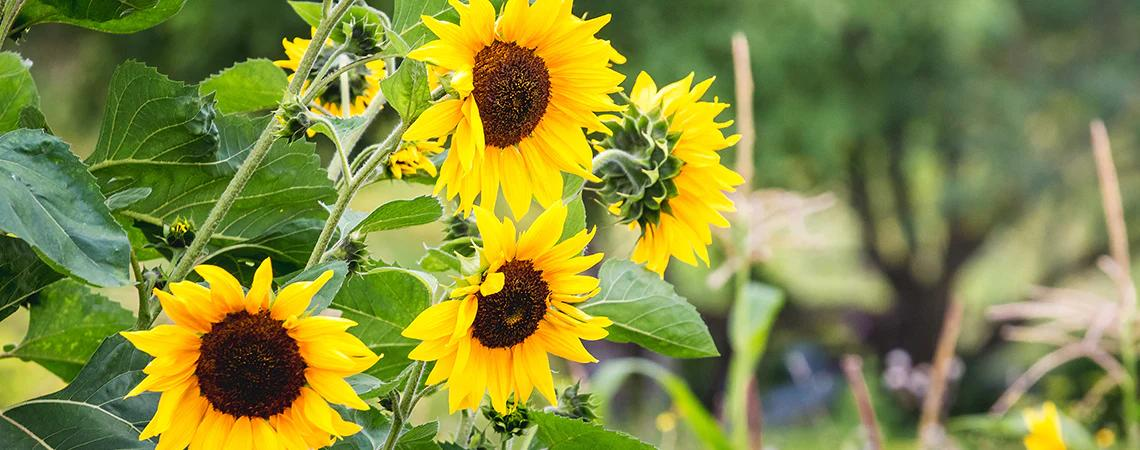sunflower: (100, 269, 391, 450), (398, 1, 627, 207), (402, 210, 601, 410)
